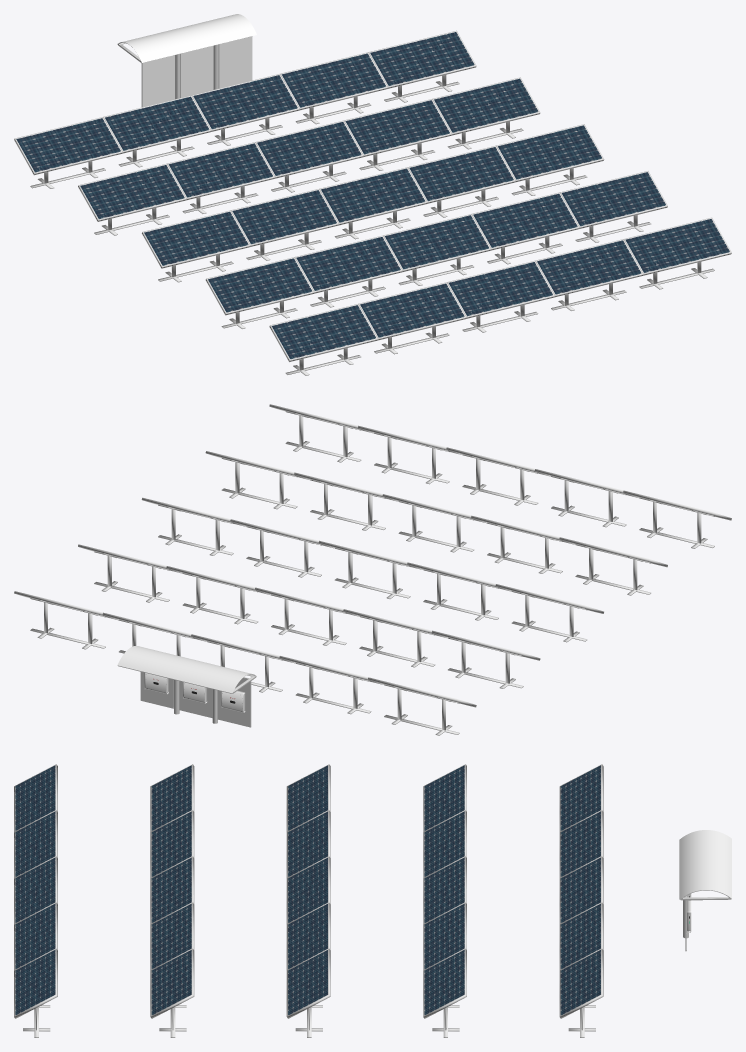
The model's file is panel_square.glb.
3 renders of one model, top to bottom at view 1: azimuth 30°, elevation 25°; view 2: azimuth 150°, elevation 25°; view 3: azimuth 270°, elevation 25°, orthographic. The views are drawn at different scales.
Parts seen in each view (by area): view 1: glass_1, photovolatic.003, photovolatic.008, photovolatic.013, photovolatic.018, photovolatic.023, photovolatic, photovolatic.004, photovolatic.009, photovolatic.005, photovolatic.015, photovolatic.022 (+16 smaller); view 2: roof, glass_1, metal; view 3: roof, photovolatic.019, photovolatic.004, photovolatic.014, photovolatic.009, photovolatic.024, photovolatic.010, photovolatic.011, photovolatic.015, photovolatic.018, photovolatic.002, photovolatic.012 (+14 smaller).
Part boxes in pixels (x1=…): glass_1: x1=142, y1=36, x2=251, y2=107; photovolatic.003: x1=141, y1=210, x2=250, y2=268; photovolatic.008: x1=78, y1=163, x2=186, y2=221; photovolatic.013: x1=14, y1=117, x2=122, y2=175; photovolatic.018: x1=205, y1=257, x2=314, y2=315; photovolatic.023: x1=269, y1=304, x2=377, y2=362; photovolatic: x1=319, y1=167, x2=427, y2=225; photovolatic.004: x1=496, y1=124, x2=604, y2=182; photovolatic.009: x1=432, y1=77, x2=540, y2=135; photovolatic.005: x1=255, y1=120, x2=363, y2=178; photovolatic.015: x1=383, y1=214, x2=491, y2=272; photovolatic.022: x1=358, y1=282, x2=466, y2=340; roof: x1=117, y1=645, x2=256, y2=693; glass_1: x1=141, y1=672, x2=250, y2=727; metal: x1=118, y1=665, x2=256, y2=727; roof: x1=679, y1=830, x2=731, y2=899; photovolatic.019: x1=150, y1=948, x2=194, y2=1018; photovolatic.004: x1=286, y1=948, x2=330, y2=1018; photovolatic.014: x1=559, y1=949, x2=603, y2=1018; photovolatic.009: x1=423, y1=948, x2=466, y2=1018; photovolatic.024: x1=14, y1=948, x2=57, y2=1018; photovolatic.010: x1=559, y1=856, x2=603, y2=924; photovolatic.011: x1=559, y1=902, x2=603, y2=970; photovolatic.015: x1=150, y1=856, x2=194, y2=924; photovolatic.018: x1=150, y1=764, x2=194, y2=832; photovolatic.002: x1=286, y1=810, x2=330, y2=878; photovolatic.012: x1=559, y1=810, x2=603, y2=877.
Size of the model in its own units: 60 by 8.12 by 78.96.
Materials: 13 (1 with a texture image).
